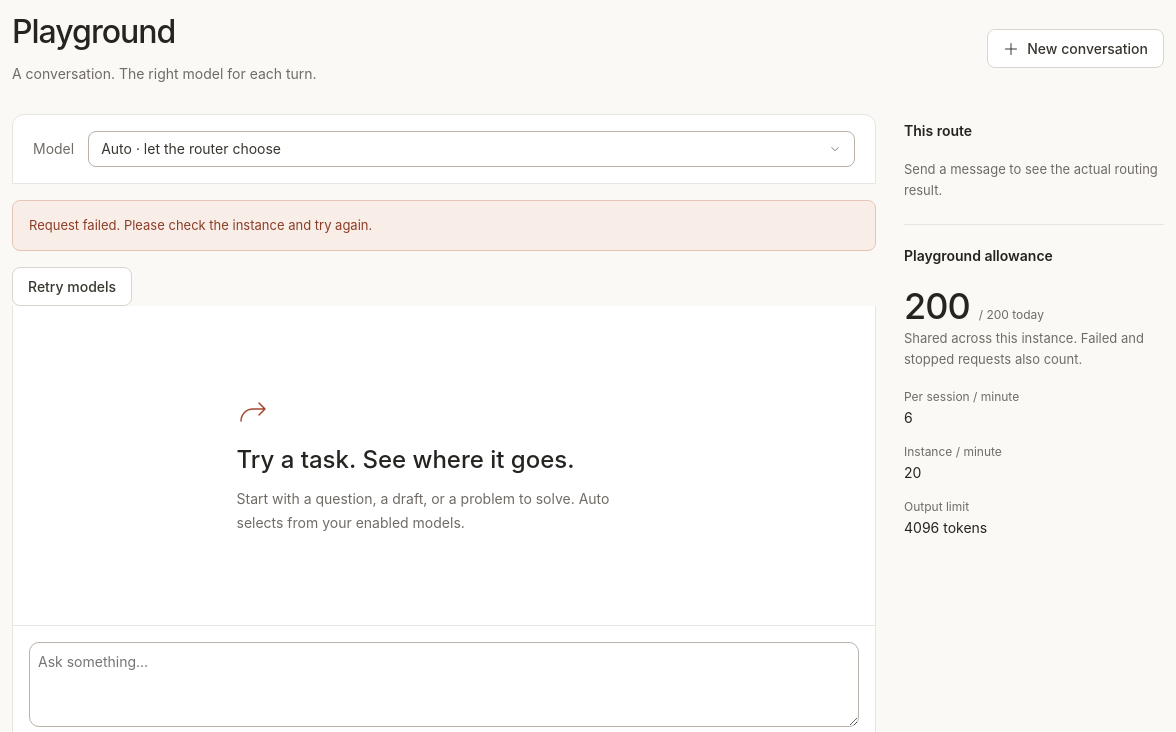
Test case: retries model loading after server failure
The width and height of the screenshot is (1176, 732).
Check: the message "Request failed. Please check the instance and try again." is shown, box [12,200,876,251]
Type "keep draft" into the text box named "Message" at (444, 684), box [29,642,859,727]
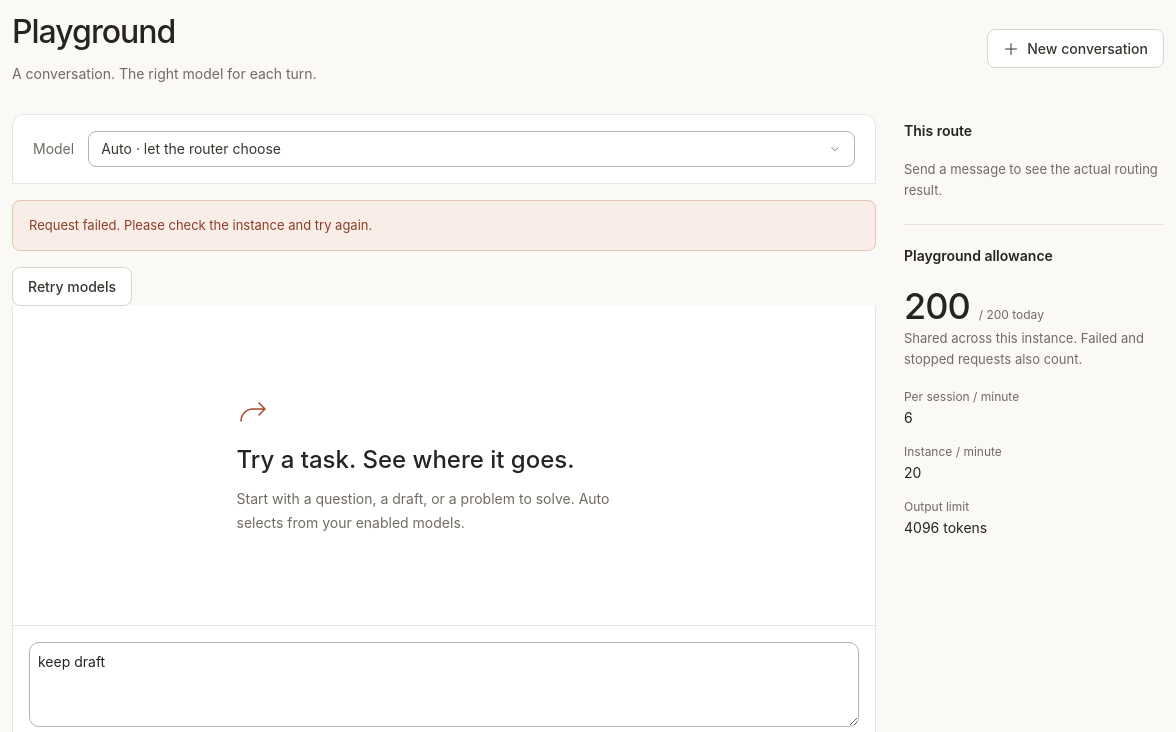
Click the button "Retry models" at (72, 286), box [12,267,132,306]
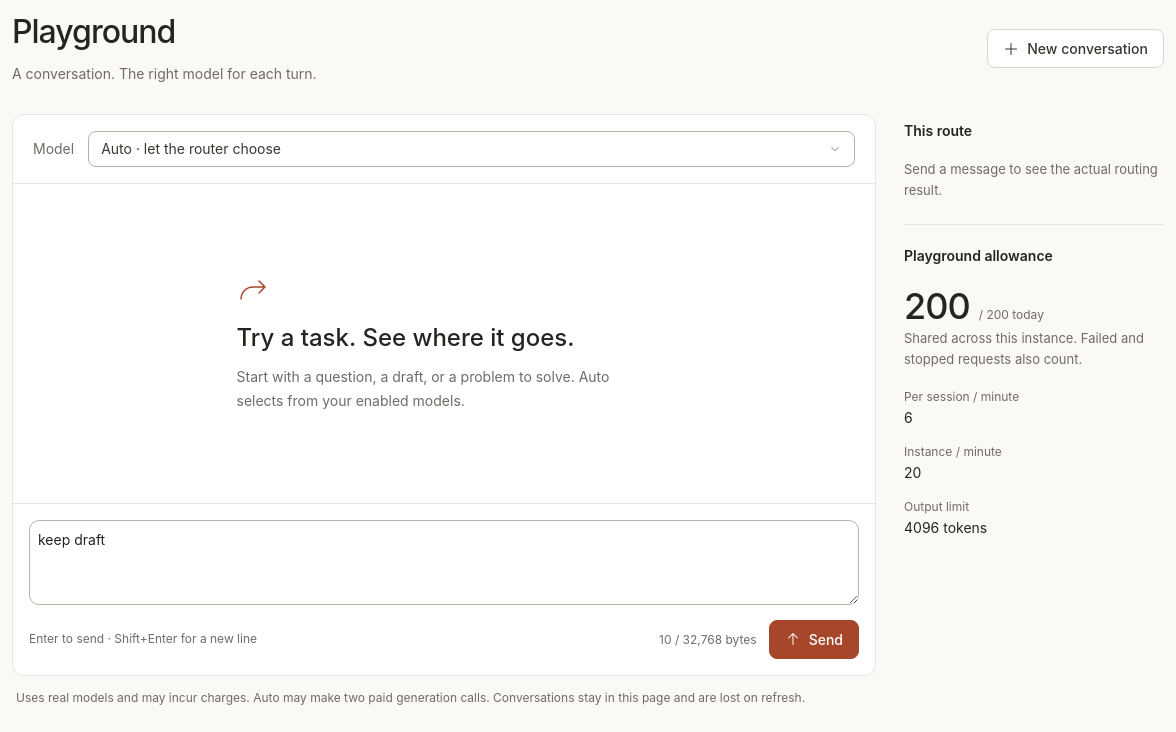
Click the button with aria-label "Model" at (191, 149), box [88,131,855,167]
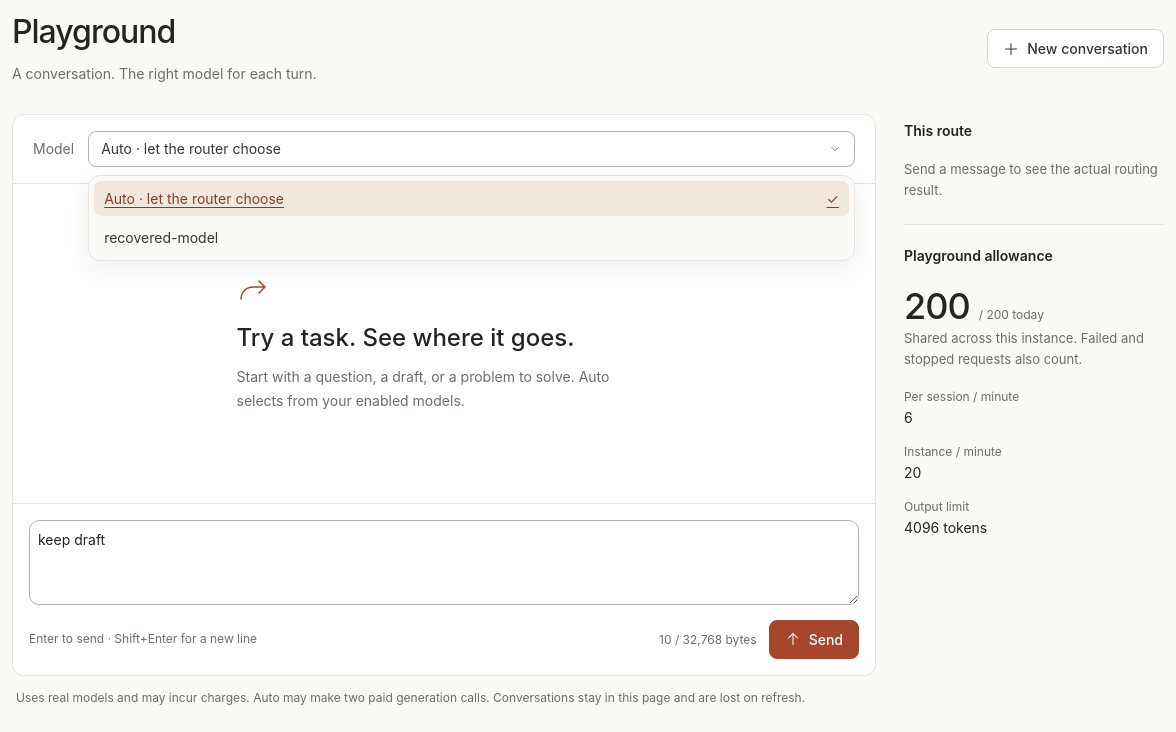
Check: the button "Retry models" is not shown
Check: the menu item "recovered-model" is shown, box [94,220,849,255]
